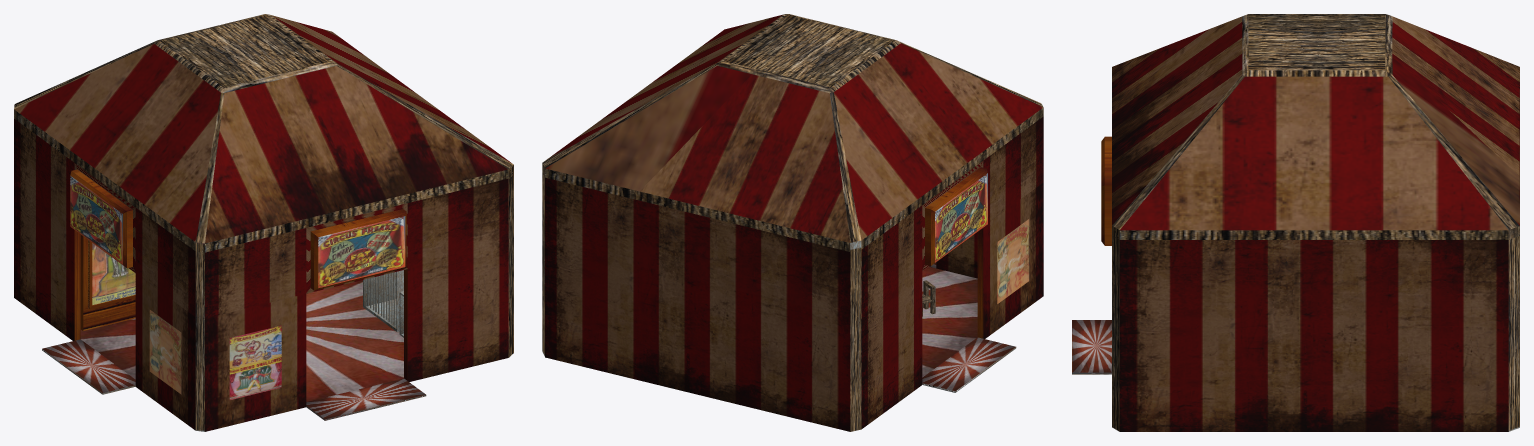
Rendered from Sideshow Tent.FBX.
The picture shows the model from 3 angles, left to right: view 1: azimuth 30°, elevation 25°; view 2: azimuth 150°, elevation 25°; view 3: azimuth 270°, elevation 25°; orthographic projection. The views are drawn at different scales.
Parts seen in each view (by area): view 1: Box014, Cage 1; view 2: Box014; view 3: Box014.
Boxes of the visible parts, box(x1,y1,x2,y2) form: Box014: box(14, 14, 513, 431); Cage 1: box(363, 270, 403, 331); Box014: box(542, 14, 1043, 431); Box014: box(1072, 14, 1519, 431).
Size of the model in its own units: 8609 by 6539 by 8881.
Materials: 3 (3 with a texture image).
